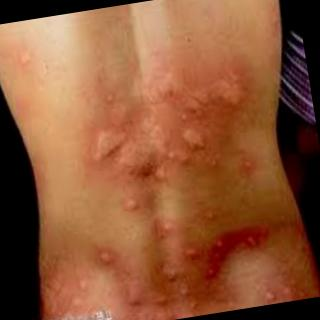urticaria: (164, 78, 243, 162), (95, 93, 156, 201), (95, 248, 160, 308), (191, 244, 230, 295), (265, 278, 308, 299), (156, 216, 178, 237), (245, 229, 268, 247)
